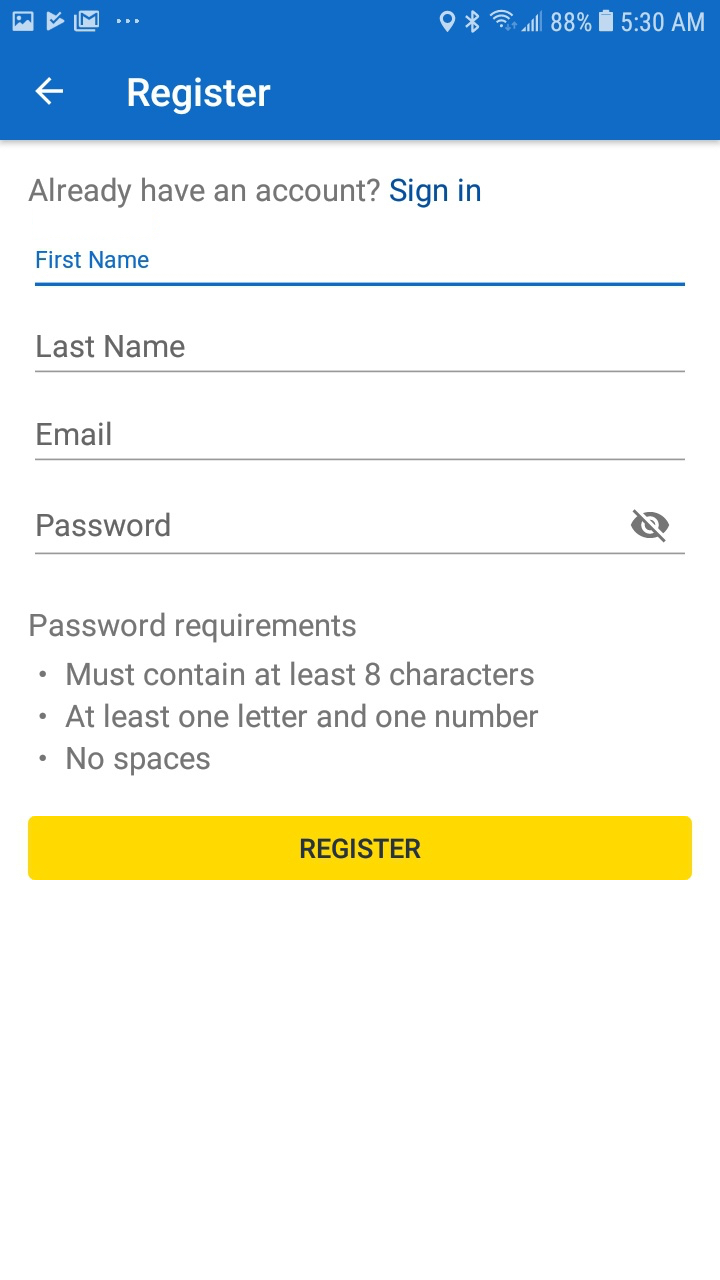EditText: (36, 509, 686, 556), (36, 421, 686, 462), (36, 335, 686, 374), (35, 251, 686, 287)
Icon: (630, 509, 670, 544), (35, 77, 65, 107)
Text: (28, 177, 481, 209), (65, 703, 539, 729), (67, 661, 535, 687), (30, 613, 357, 644), (128, 77, 272, 116), (67, 746, 211, 777), (38, 512, 171, 538), (37, 335, 186, 358), (37, 251, 150, 269), (37, 421, 112, 447)
TextButton: (29, 816, 693, 881)
UpperTaskBar: (1, 1, 720, 36)
